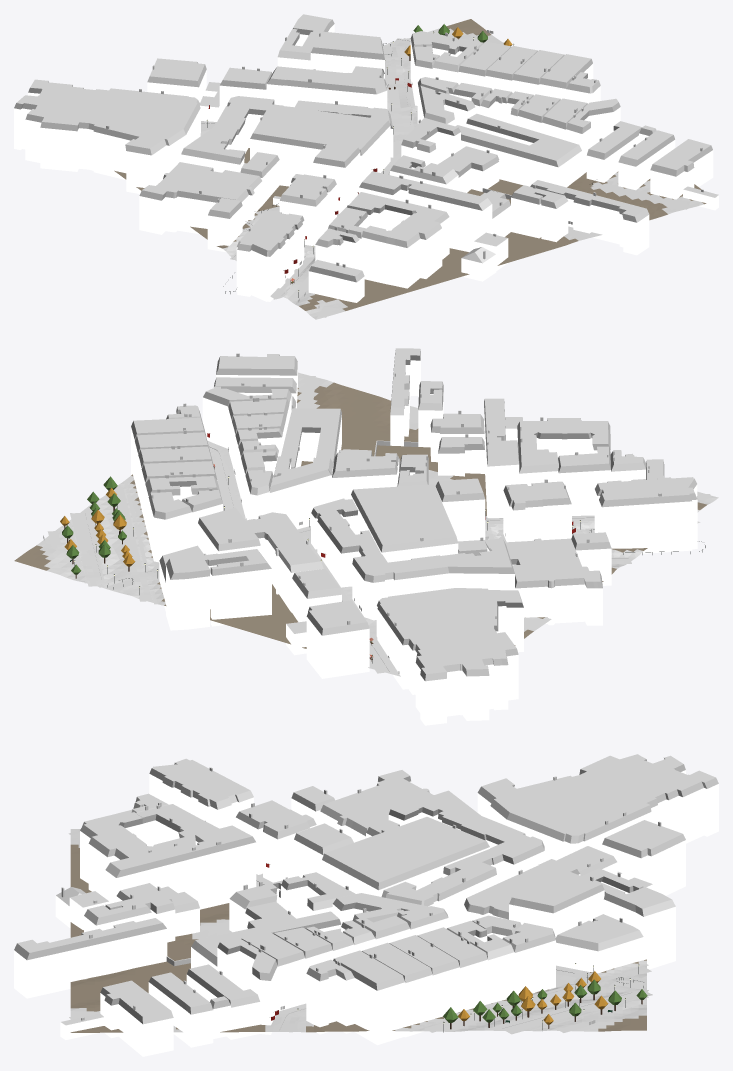
File: zone_E5.glb
The picture shows the model from 3 angles, top to bottom: view 1: azimuth 30°, elevation 25°; view 2: azimuth 150°, elevation 25°; view 3: azimuth 270°, elevation 25°; orthographic projection. The views are drawn at different scales.
Visible parts, largest first — view 1: zone_E5_batiments, zone_E5_terrain, zone_E5_sol_NOCOL, zone_E5_decor_NOCOL; view 2: zone_E5_batiments, zone_E5_terrain, zone_E5_sol_NOCOL, zone_E5_decor_NOCOL; view 3: zone_E5_batiments, zone_E5_terrain, zone_E5_sol_NOCOL, zone_E5_decor_NOCOL.
Part boxes in pixels (box(x1,y1,x2,y2)): zone_E5_batiments: box(14, 14, 718, 308); zone_E5_terrain: box(114, 19, 706, 319); zone_E5_sol_NOCOL: box(201, 38, 688, 317); zone_E5_decor_NOCOL: box(207, 24, 592, 297); zone_E5_batiments: box(131, 348, 697, 725); zone_E5_terrain: box(14, 372, 718, 676); zone_E5_sol_NOCOL: box(47, 376, 711, 673); zone_E5_decor_NOCOL: box(60, 476, 705, 663); zone_E5_batiments: box(14, 754, 718, 1056); zone_E5_terrain: box(70, 829, 646, 1032); zone_E5_sol_NOCOL: box(68, 831, 652, 1034); zone_E5_decor_NOCOL: box(297, 963, 647, 1032).
Size of the model in its own units: 239 by 35.82 by 260.
